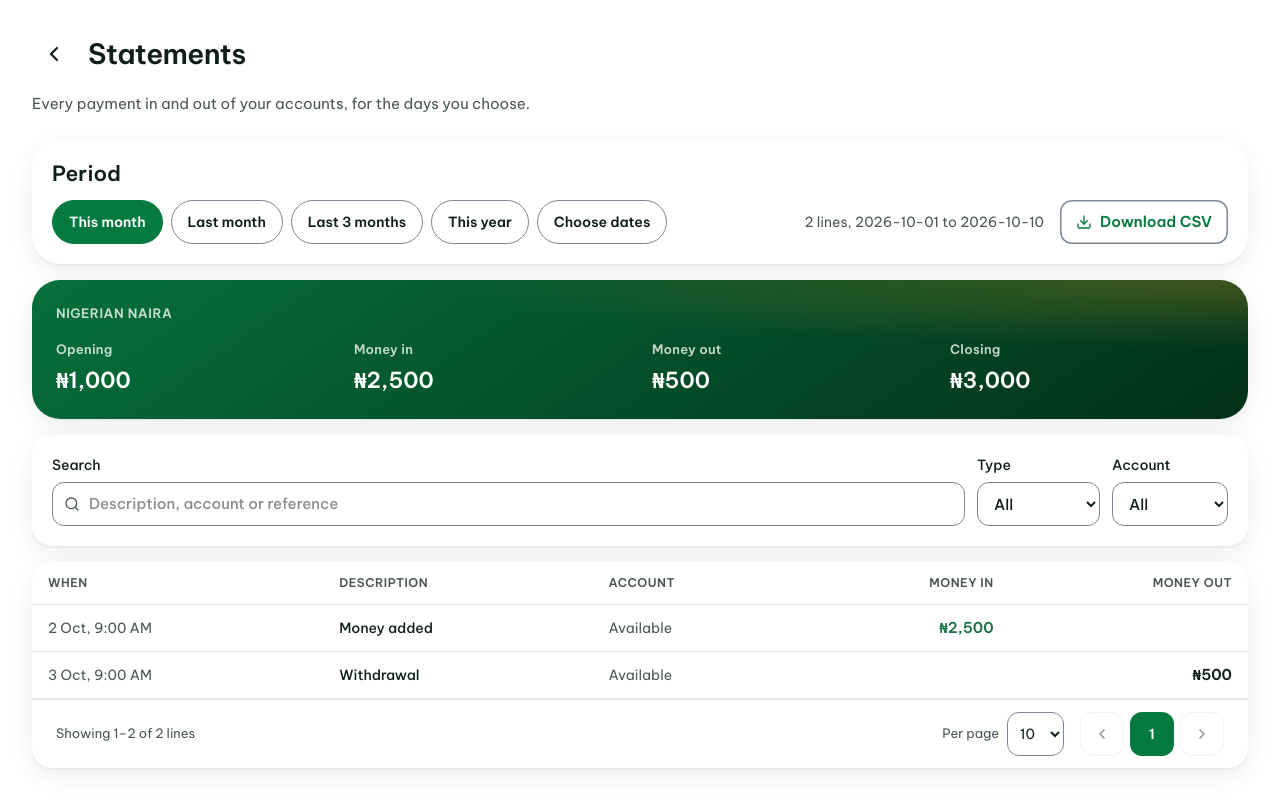
Test: statements › narrows the lines by type, account and words, says how many are left, and clears
The width and height of the screenshot is (1280, 800).
Select "Money out" in the dropdown labelled "Type" at (1038, 504), box [977,482,1100,526]
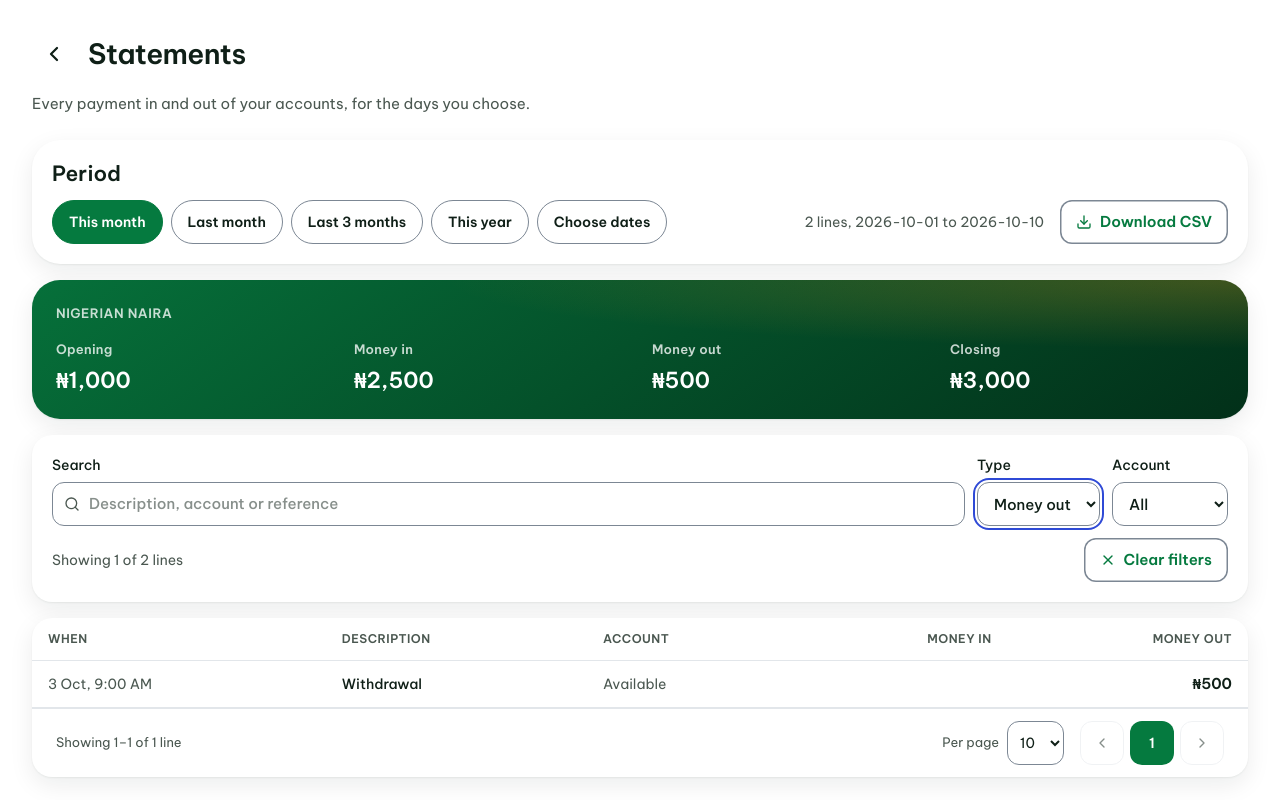
Check: the message reads "Showing 1 of 2 lines", box [52,550,183,568]
Type "ajf" into the search field labelled "Search".
click(508, 504); type("ajf")  # box [52,482,965,526]
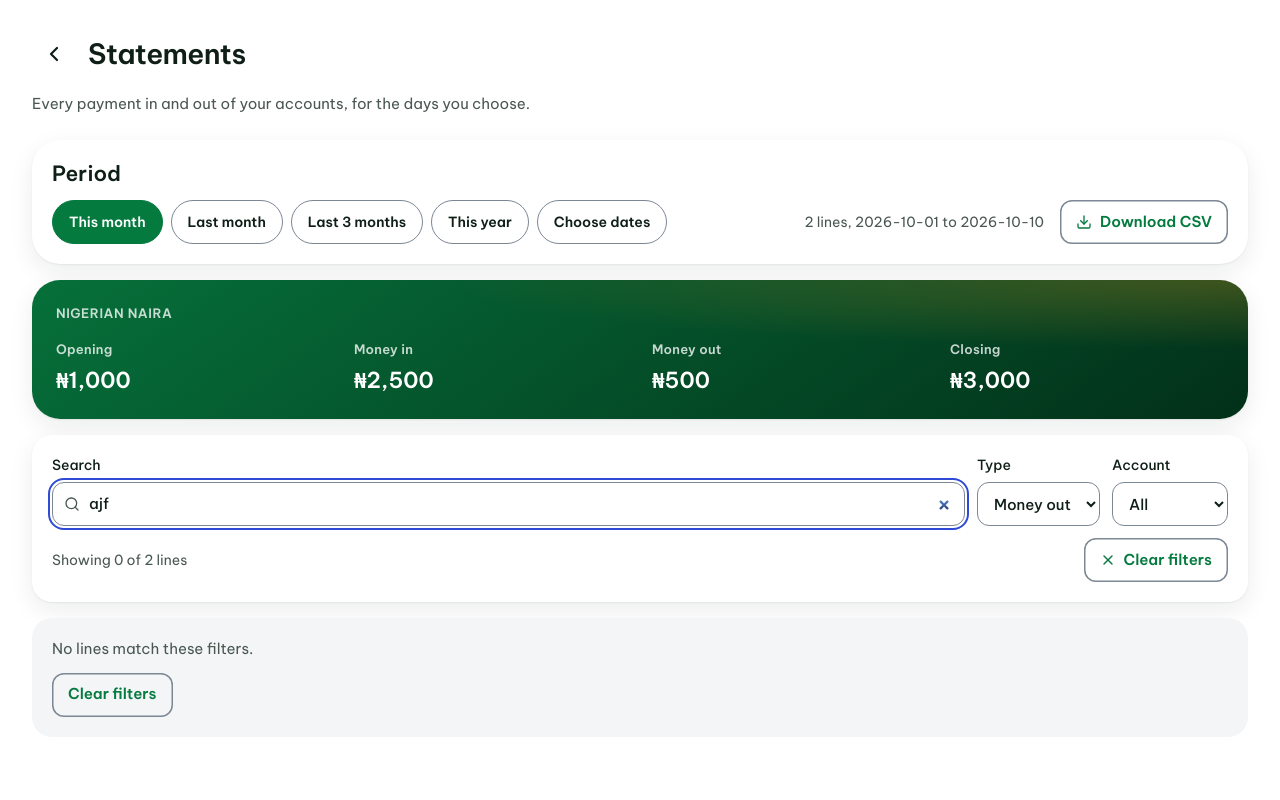
Check: the text "No lines match these filters." is shown, box [52,638,253,660]
Click the button "Clear filters" in the row of "Showing 0 of 2 lines".
click(1156, 560)  # box [1084,538,1228,582]
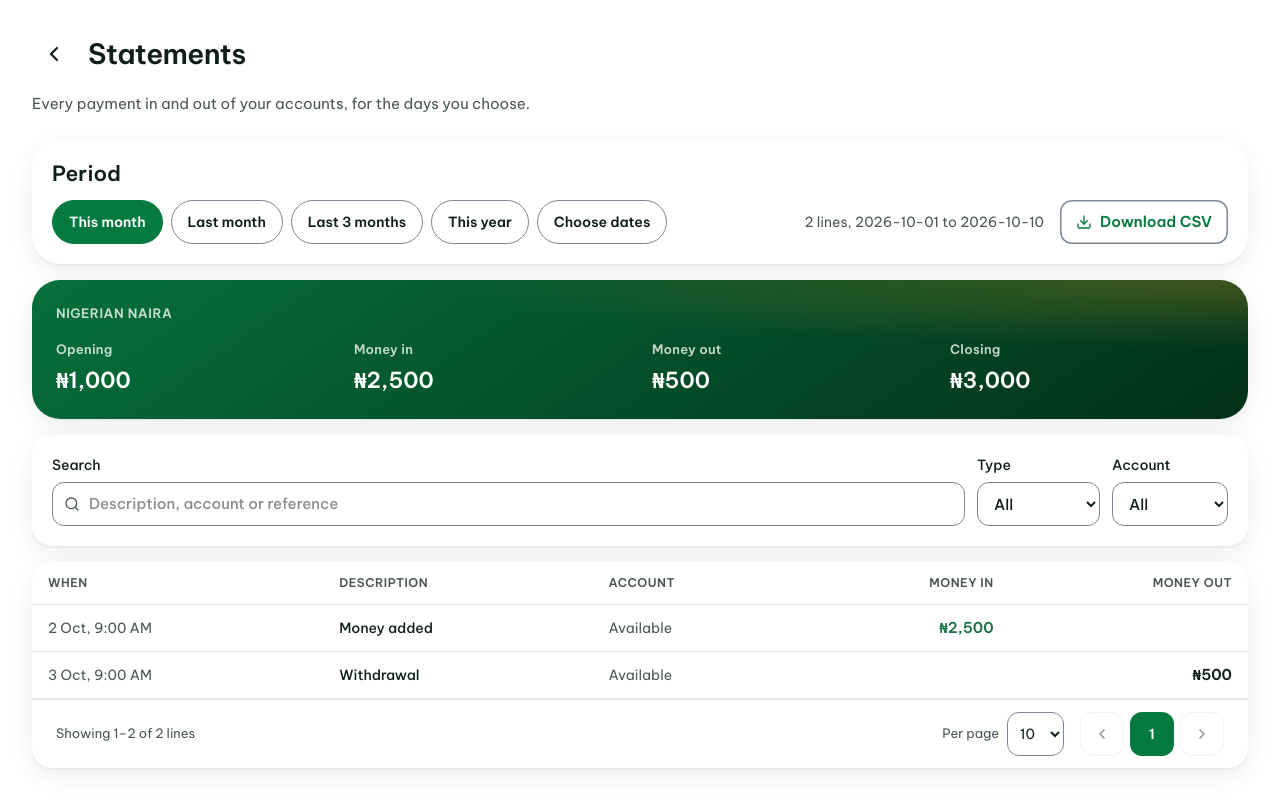
Check: the search field labelled "Search" is empty, box [52,482,965,526]
